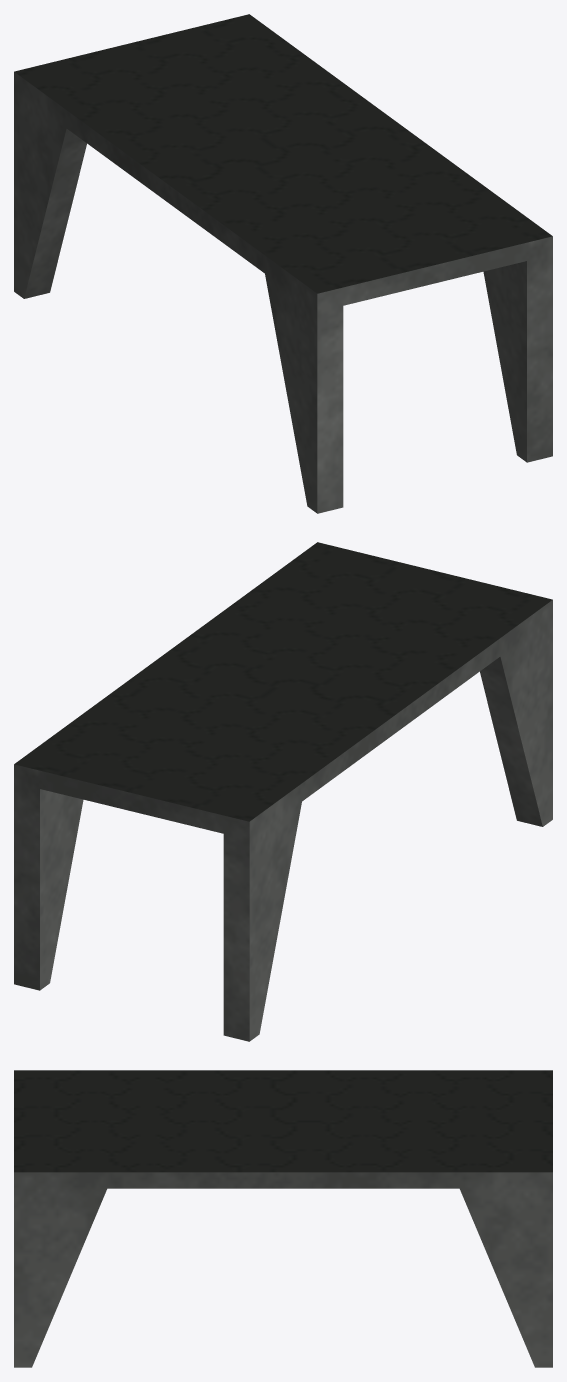
The model's file is Desk.glb.
3 views of the same model, one above another, from view 1: azimuth 30°, elevation 25°; view 2: azimuth 150°, elevation 25°; view 3: azimuth 270°, elevation 25° (orthographic). The views are drawn at different scales.
Visible parts, largest first — view 1: Desk-col; view 2: Desk-col; view 3: Desk-col.
Boxes of the visible parts, left/top/right/bottom form: Desk-col: left=14, top=14, right=552, bottom=513; Desk-col: left=14, top=542, right=552, bottom=1041; Desk-col: left=14, top=1070, right=552, bottom=1367.
Bounding box in the file's own units: 1.34 × 1.2 × 3.
Materials: 1 (1 with a texture image).
